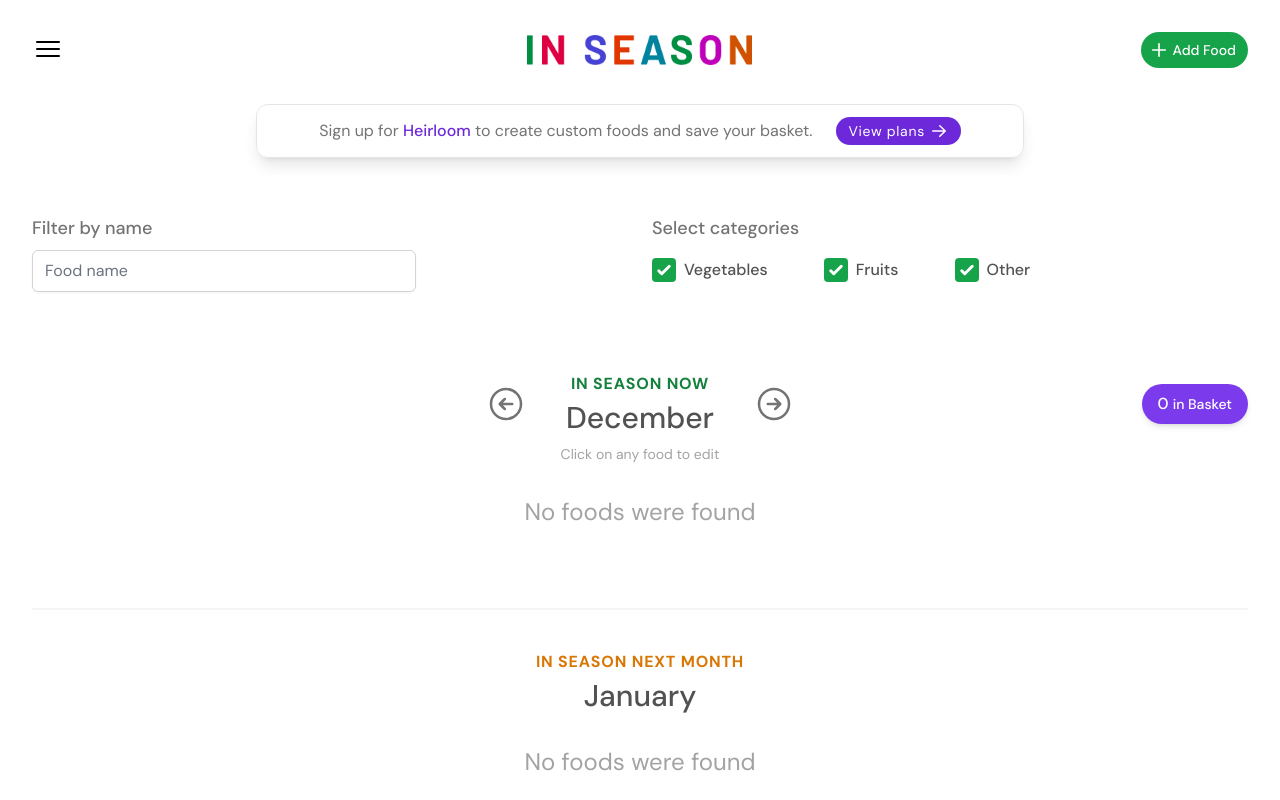
it: app pages can be opened › signup page can be opened
The image size is (1280, 800).
Click the button with id "menuButton" at (48,49), box [32, 33, 64, 65]
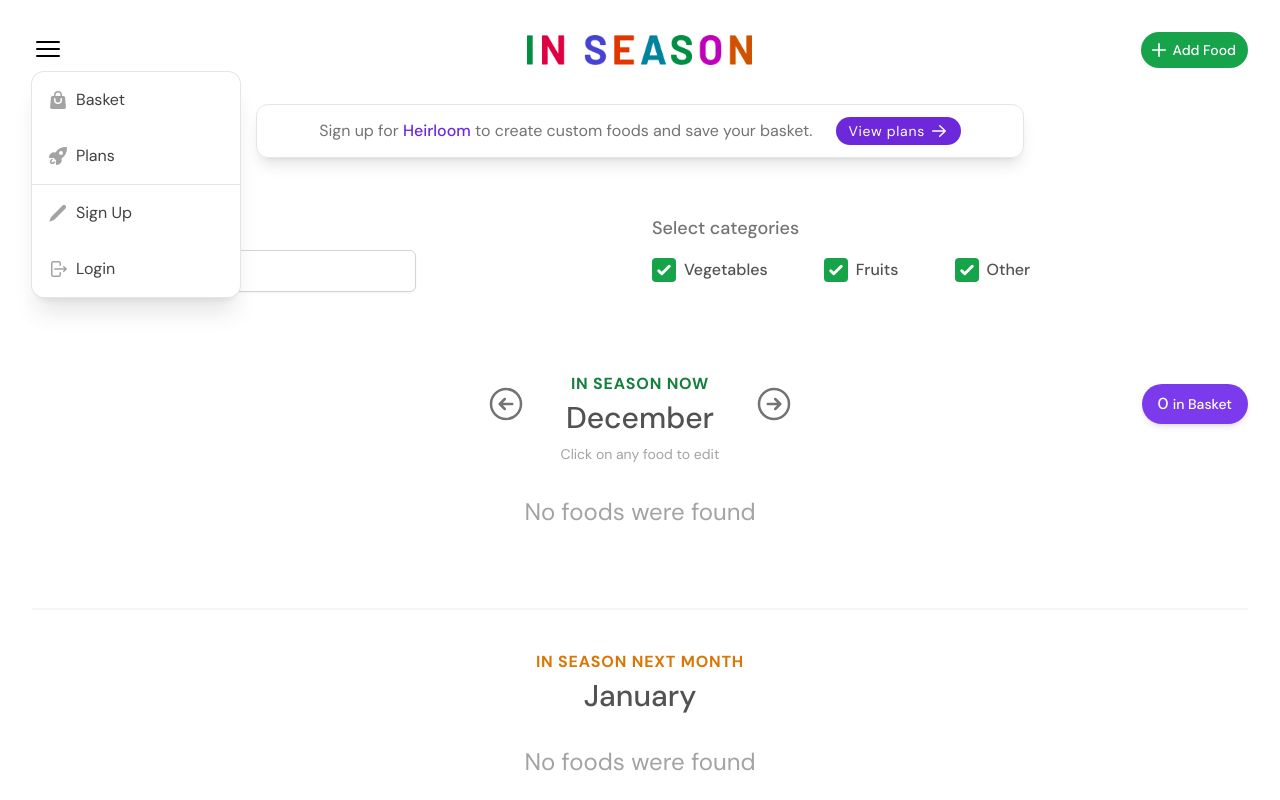
Click the link "Sign Up" at (136,213), box [32, 184, 240, 241]
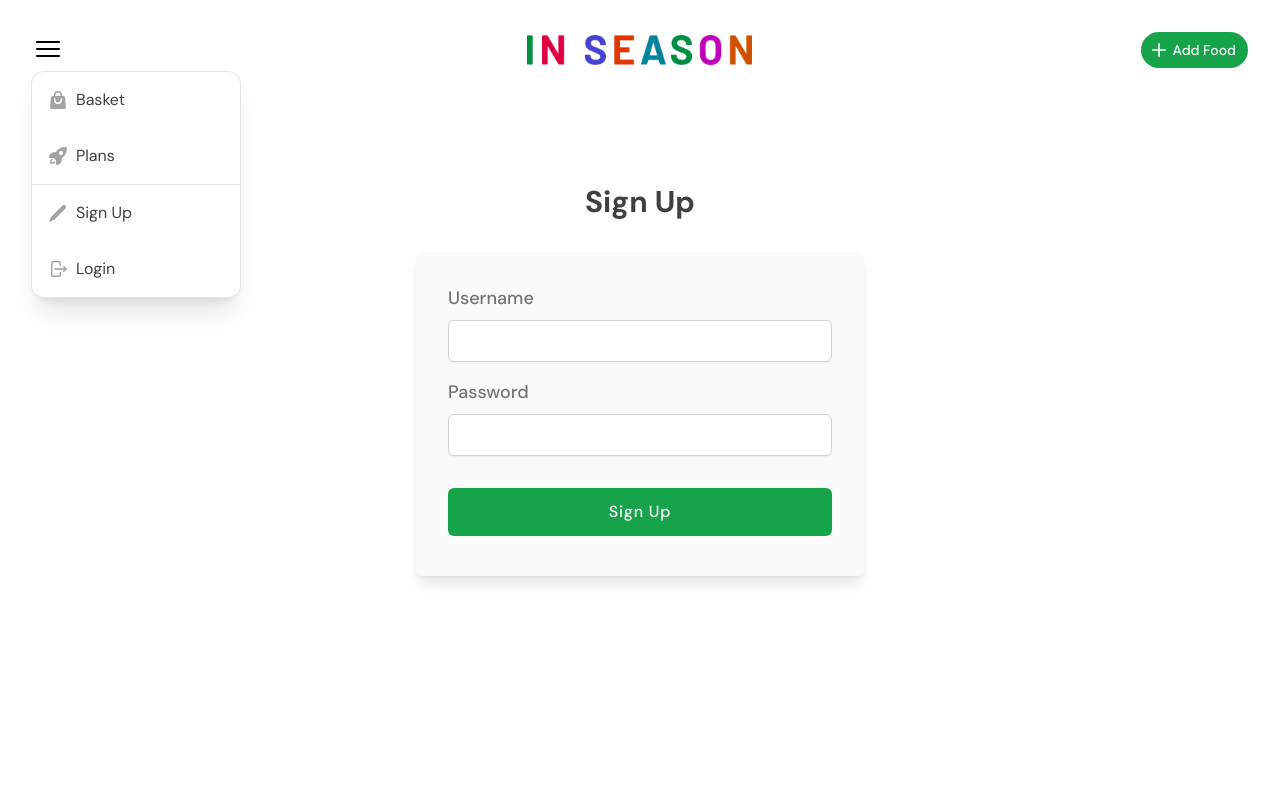
Expected: the link "Sign Up" is shown, [32, 184, 240, 240]
Expected: the label "Username" is shown, [448, 286, 534, 310]
